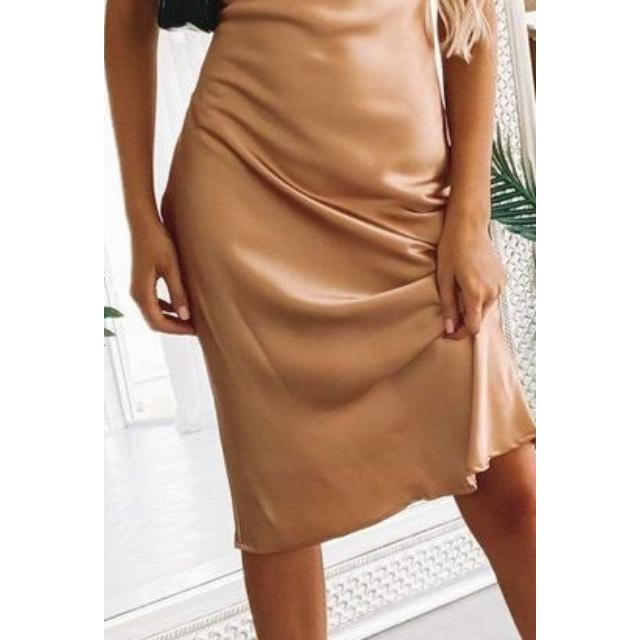silk: (175, 1, 518, 534)
